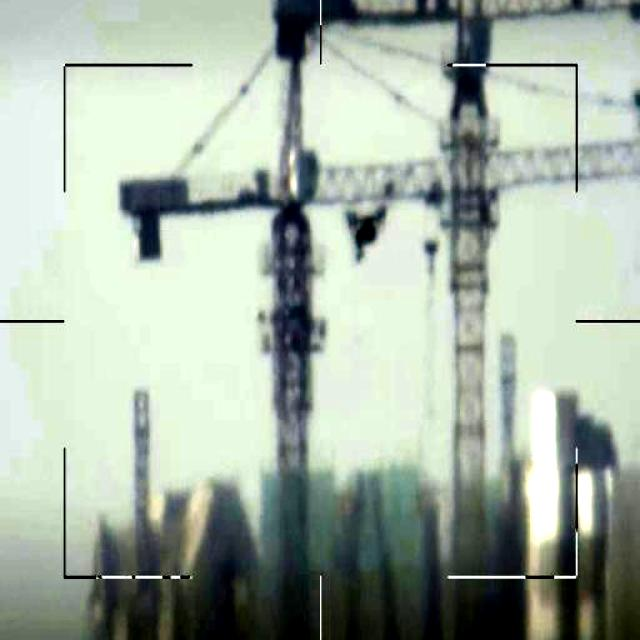bird: (341, 205, 391, 266)
